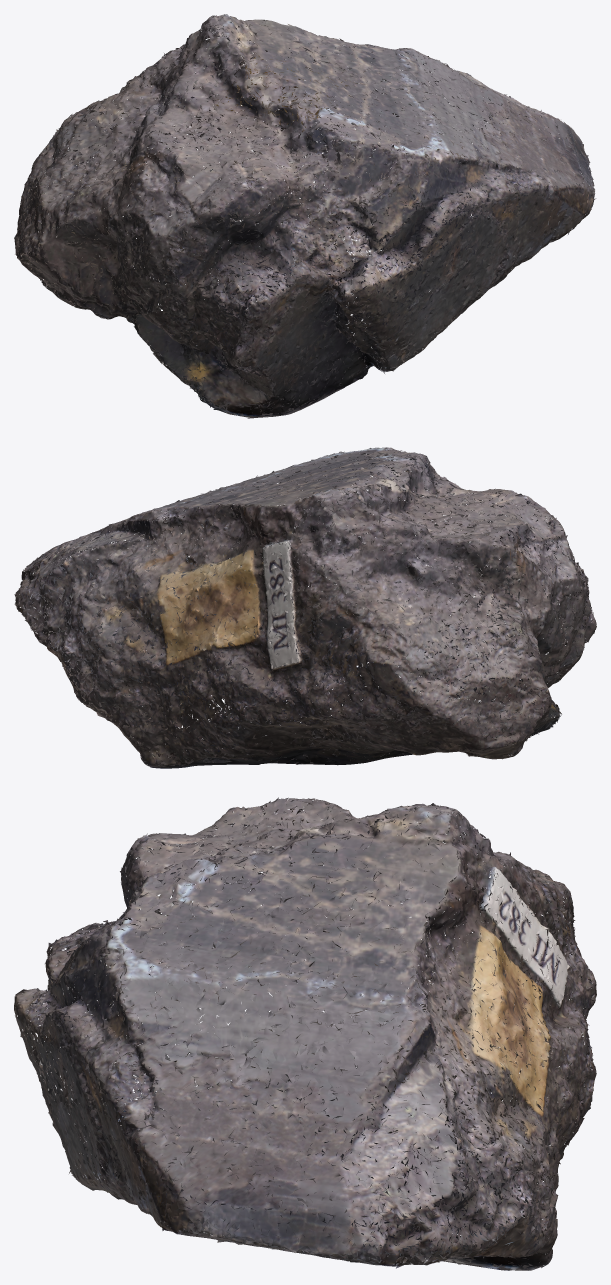
File: wolframita.glb
3 renders of one model, top to bottom at view 1: azimuth 30°, elevation 25°; view 2: azimuth 150°, elevation 25°; view 3: azimuth 270°, elevation 25°, orthographic. The views are drawn at different scales.
Visible parts, largest first — view 1: Object_2, Object_3, Object_4; view 2: Object_2, Object_3, Object_4; view 3: Object_3, Object_2, Object_4.
Part boxes in pixels (x1,y1,x2,y2): Object_2: (14, 24, 595, 418); Object_3: (15, 17, 593, 415); Object_4: (17, 14, 596, 417); Object_2: (15, 447, 596, 768); Object_3: (14, 448, 596, 768); Object_4: (14, 447, 595, 765); Object_3: (15, 798, 596, 1270); Object_2: (14, 797, 595, 1270); Object_4: (14, 798, 593, 1270).
Size of the model in its own units: 1 by 0.521 by 0.7153.
1 material, 1 textured.
